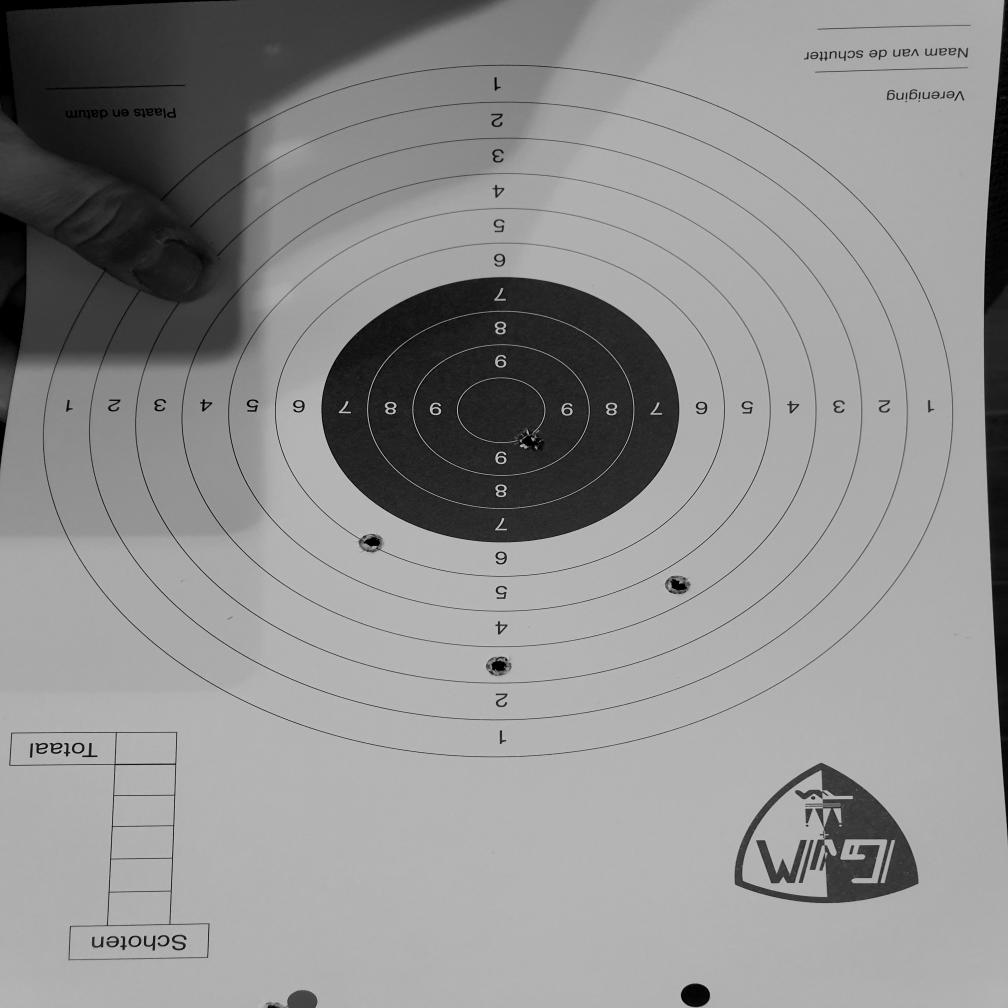0: (267, 1000, 283, 1008)
10: (512, 428, 546, 451)
3: (484, 654, 512, 679)
4: (664, 573, 694, 596)
6: (356, 532, 386, 556)
Target: (42, 61, 956, 760)
black_contour: (320, 278, 680, 544)
